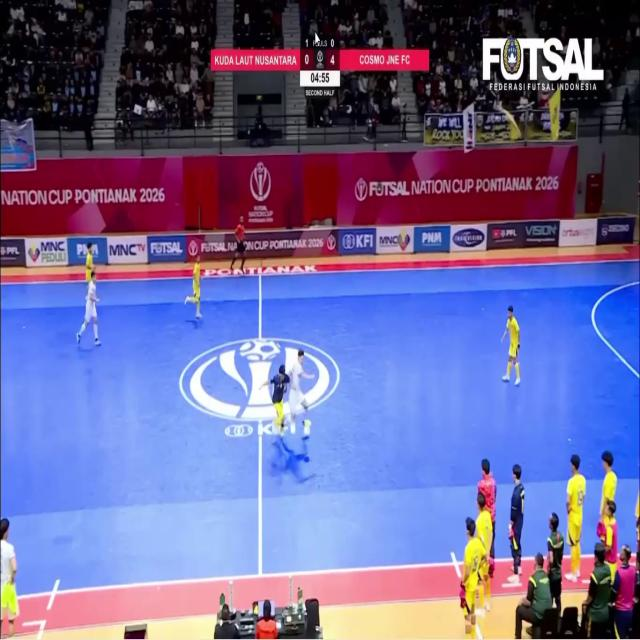official: (515, 554, 552, 638), (583, 543, 611, 638), (508, 465, 524, 583), (256, 600, 278, 639), (215, 605, 240, 639)
players: (462, 518, 486, 637), (566, 455, 586, 582), (0, 519, 19, 636), (476, 493, 493, 613), (261, 365, 290, 434), (289, 350, 313, 429), (77, 270, 101, 345), (501, 306, 520, 385), (185, 256, 201, 319)
referee: (256, 600, 278, 639), (231, 217, 245, 272)
